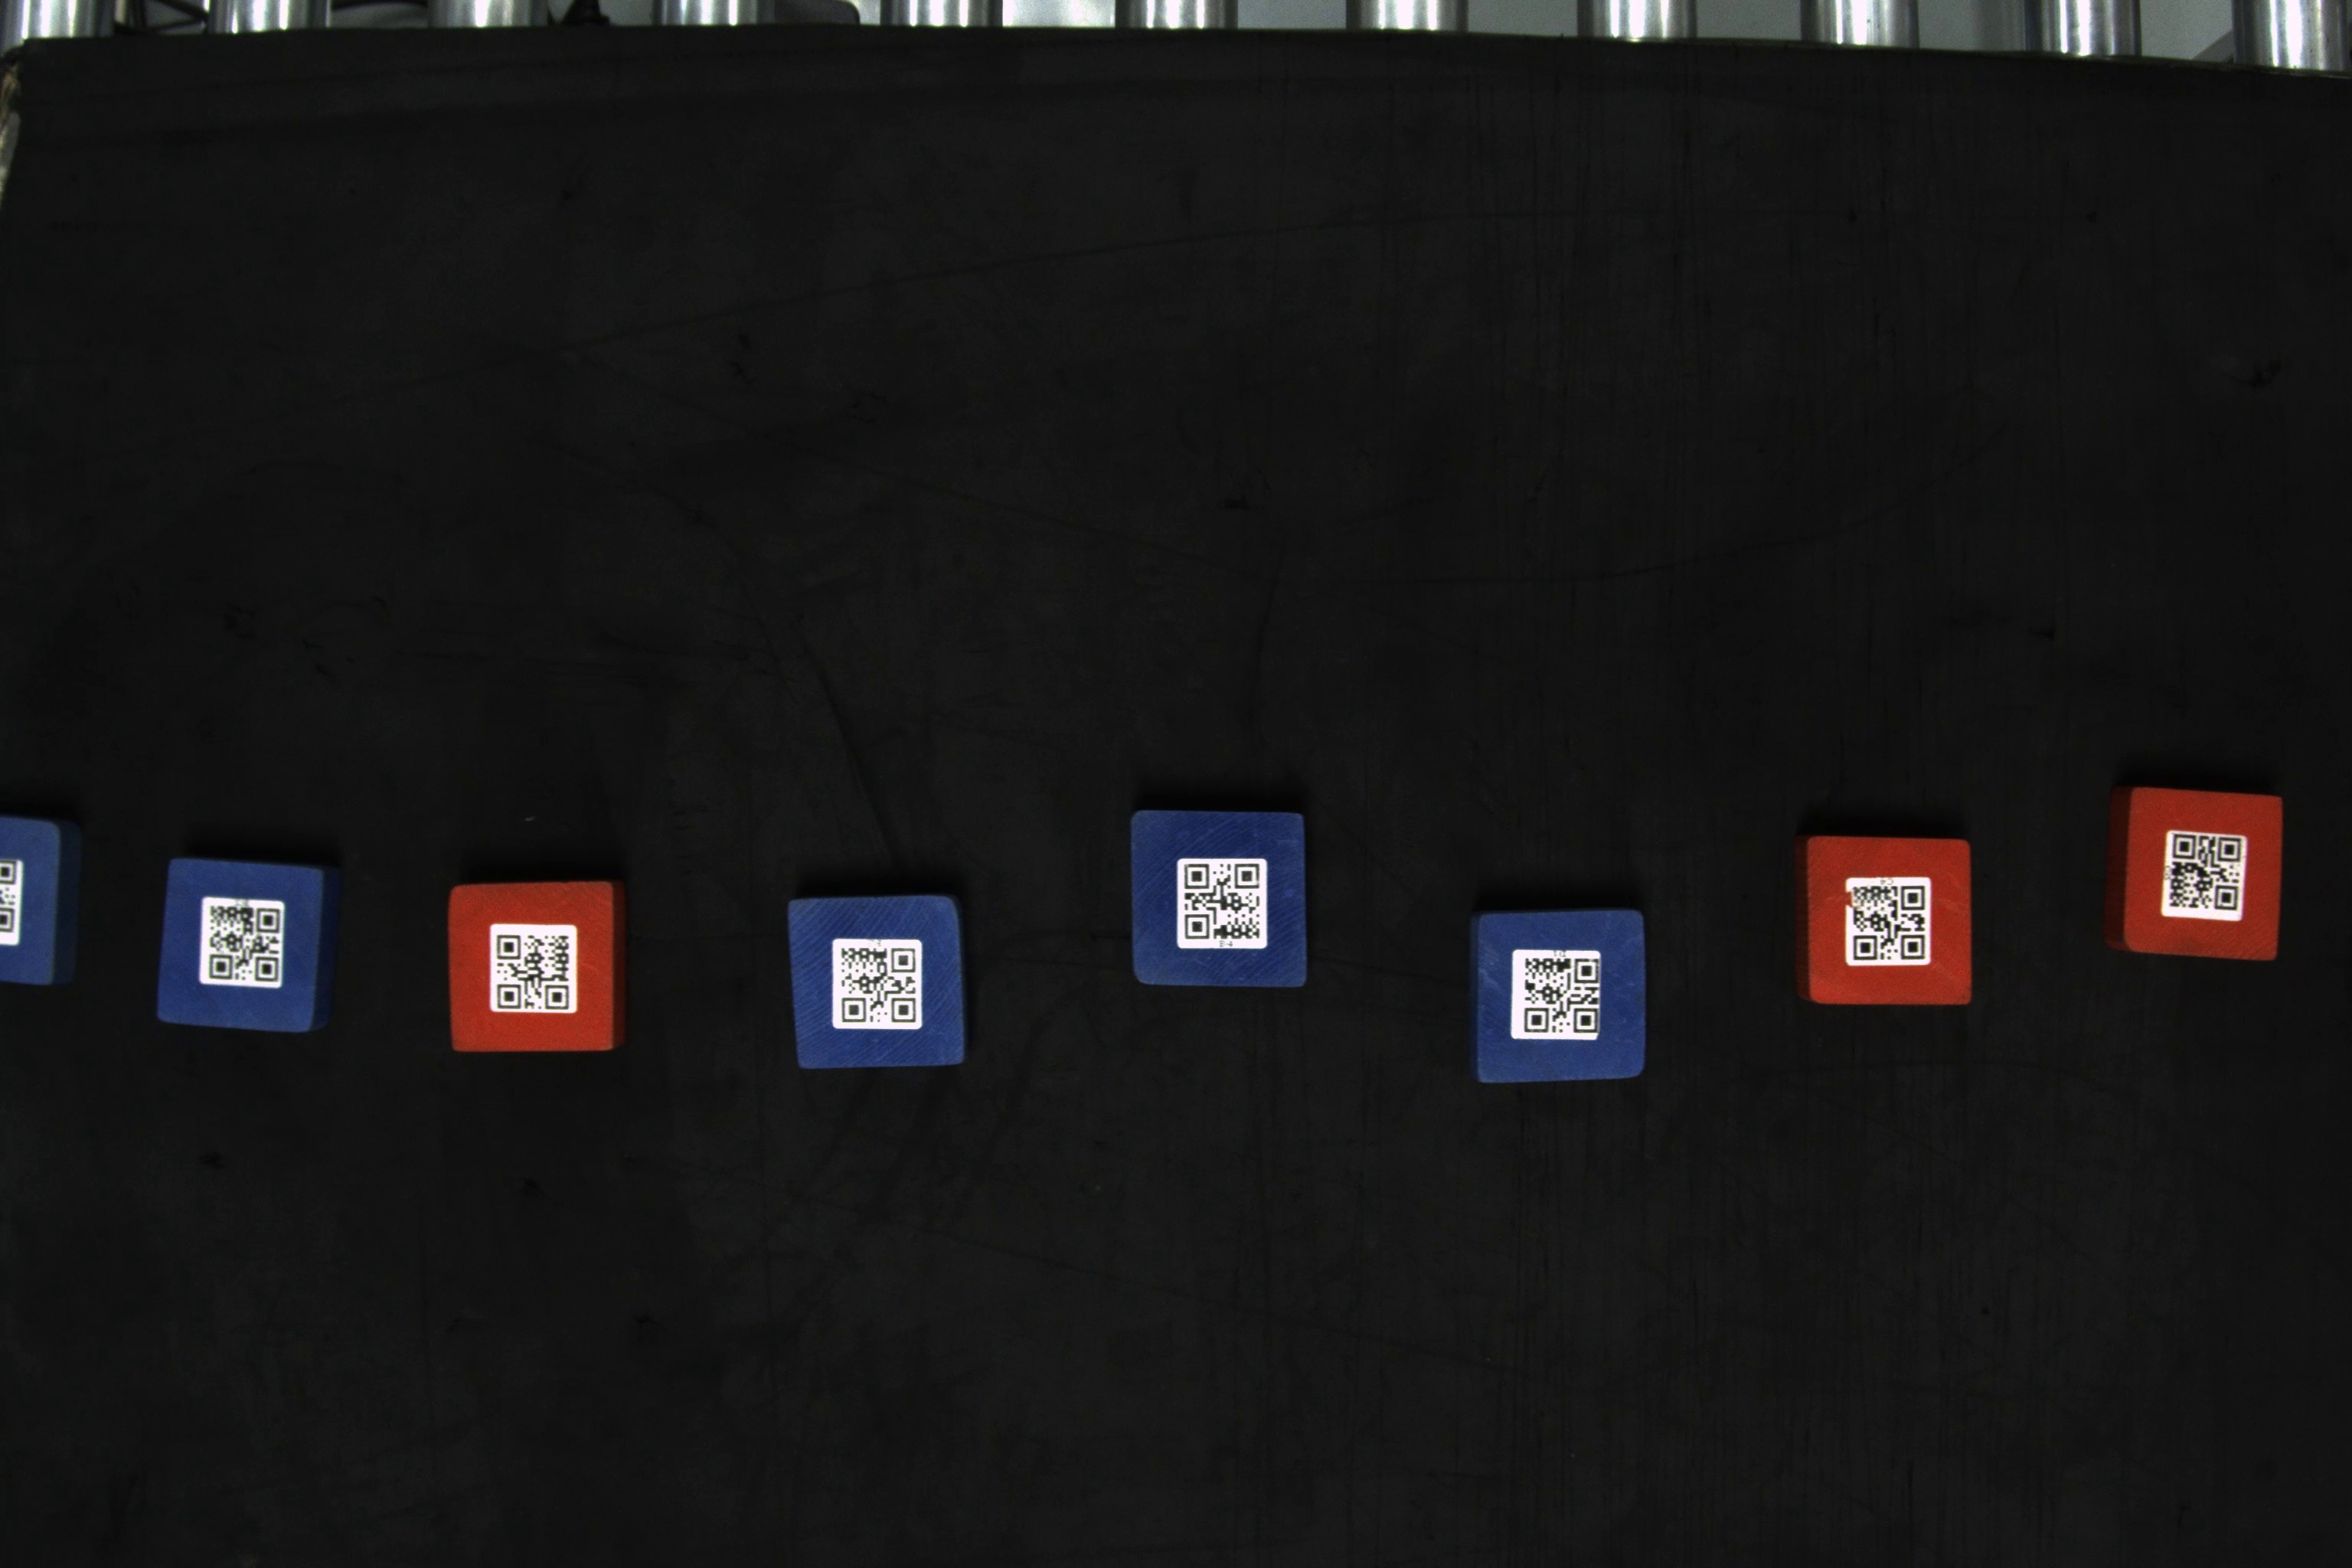wood: (1123, 803, 1318, 990), (1459, 906, 1654, 1090), (2096, 782, 2289, 962), (441, 884, 639, 1057), (1790, 831, 1979, 1011), (784, 896, 975, 1074), (154, 856, 339, 1036), (3, 810, 87, 990)
